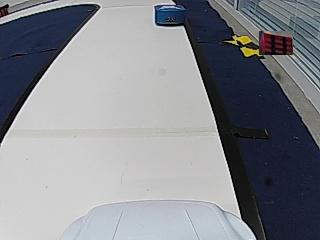prop: (155, 5, 185, 27)
